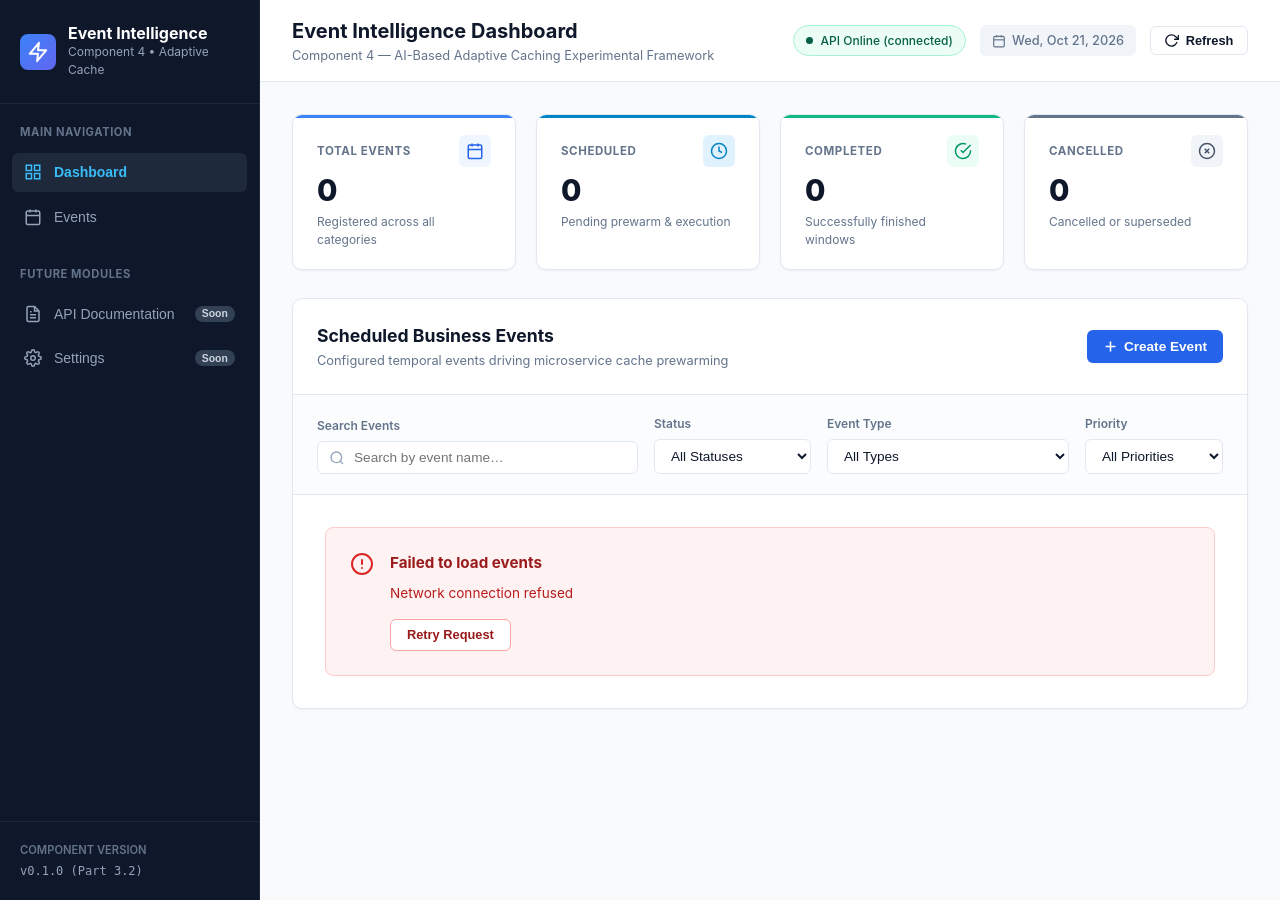
Frontend Dashboard Foundation — Part 3.2 › re-fetches dashboard data when Retry button is clicked
Expected: the heading "Failed to load events" is shown, [390,553,542,572]
Click the button "Retry Request".
click(450, 635)  # box [390,619,511,651]
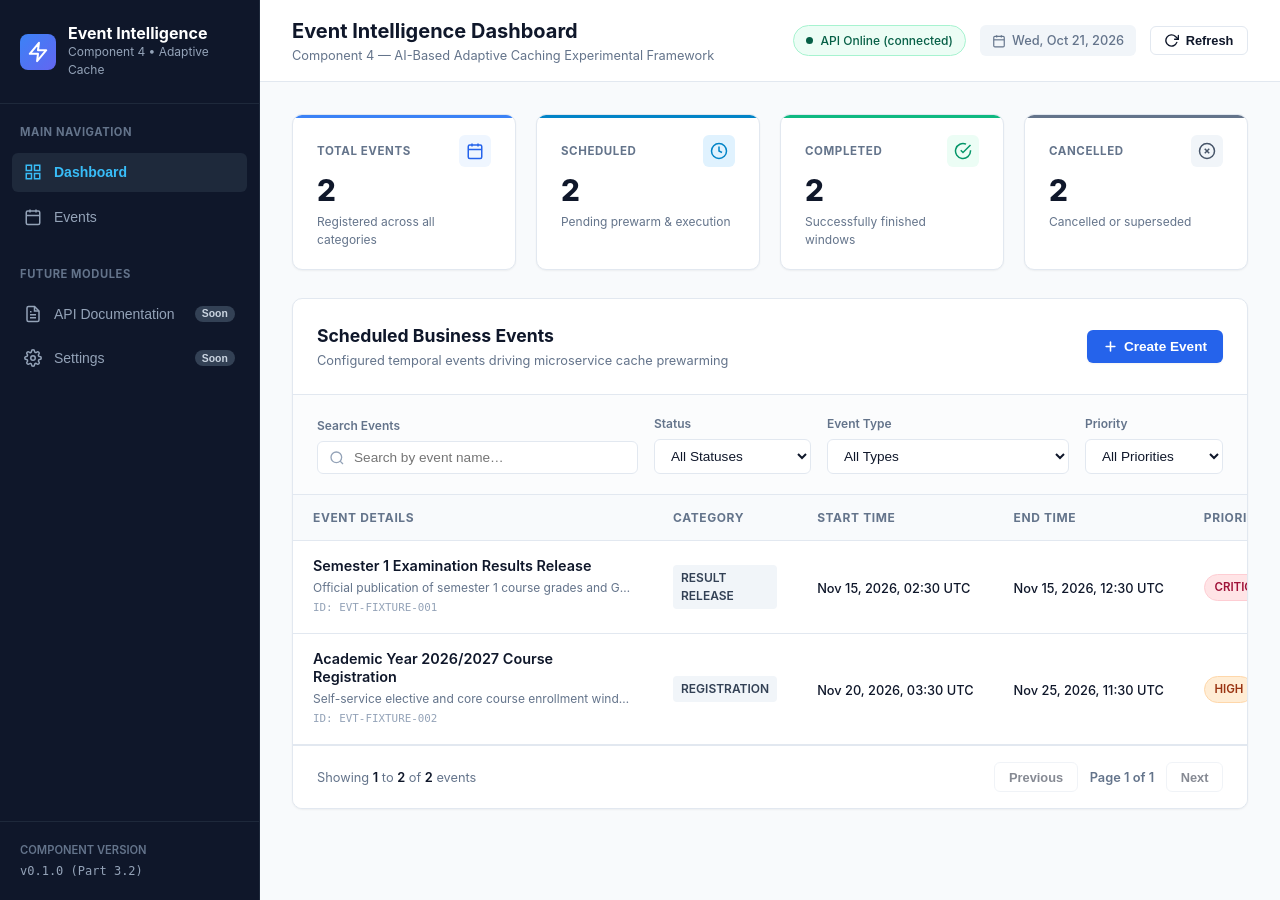
Expected: the button "Semester 1 Examination Results Release" is shown, [313,557,633,576]
